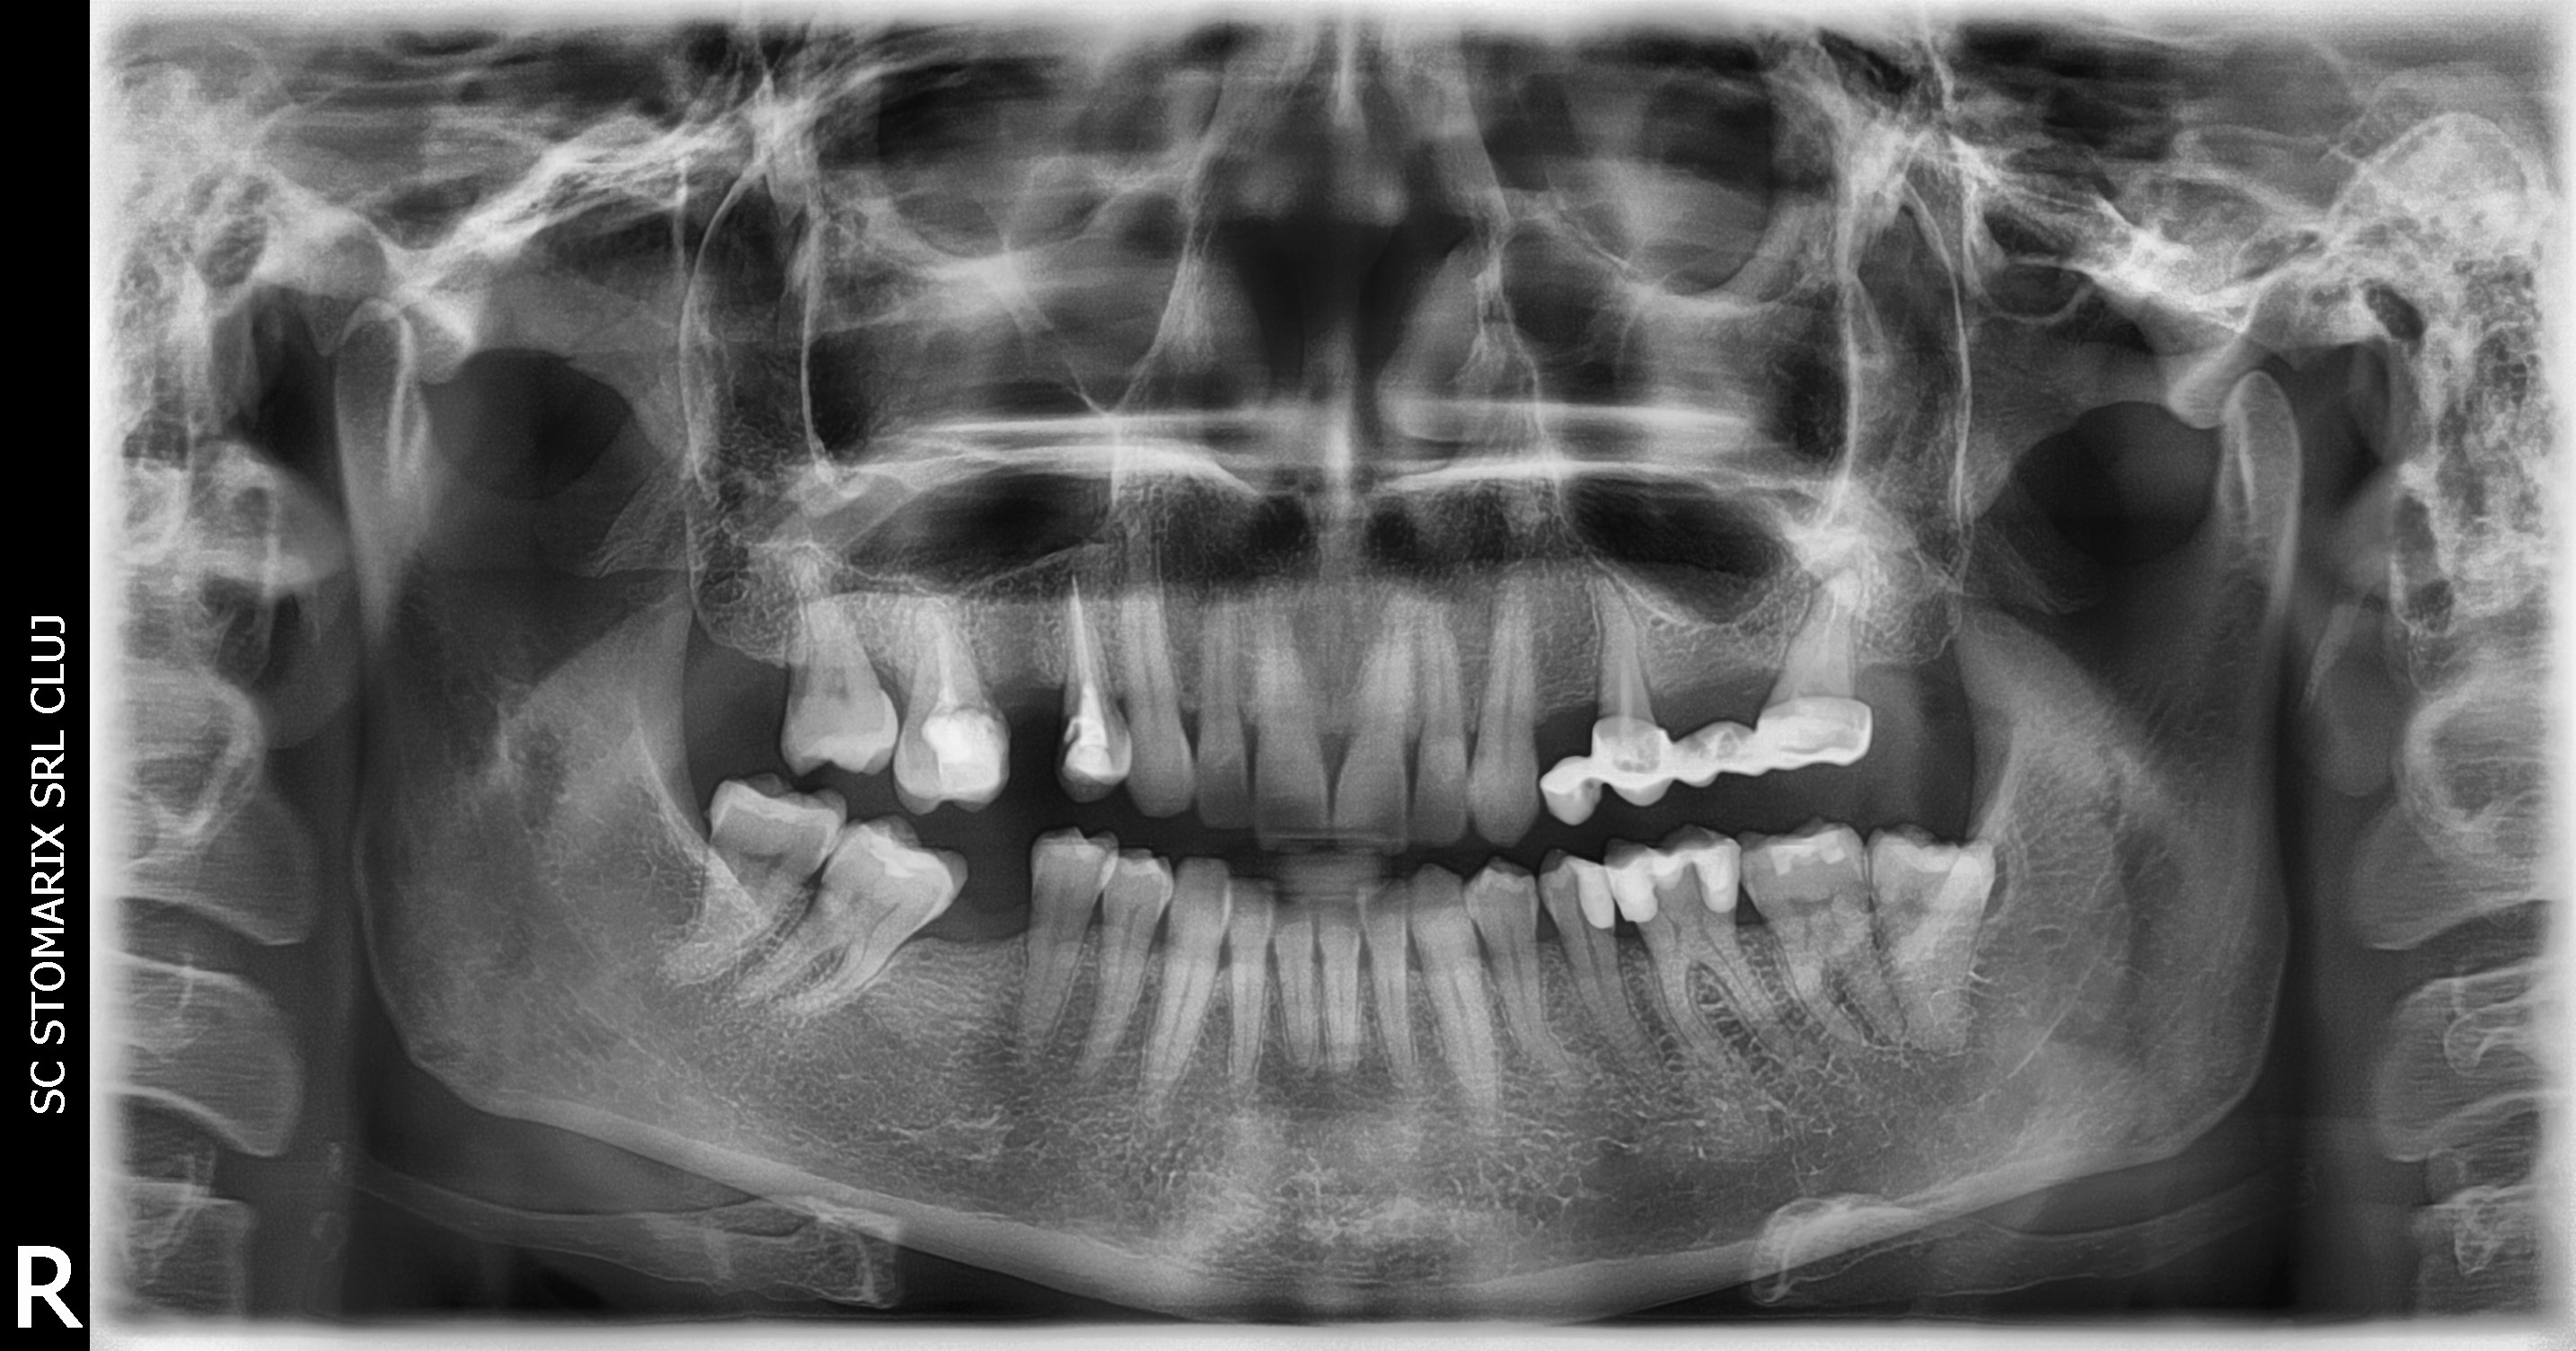END: (854, 228, 2576, 917), (499, 208, 1613, 917), (431, 230, 1397, 932)
IMT: (830, 288, 2576, 1344)
OBT: (717, 346, 2481, 1288), (816, 349, 2576, 1252), (722, 375, 2344, 1315), (474, 279, 1615, 1102), (368, 394, 1317, 1285), (399, 279, 1431, 1087)
PRR: (572, 269, 2486, 1104)
